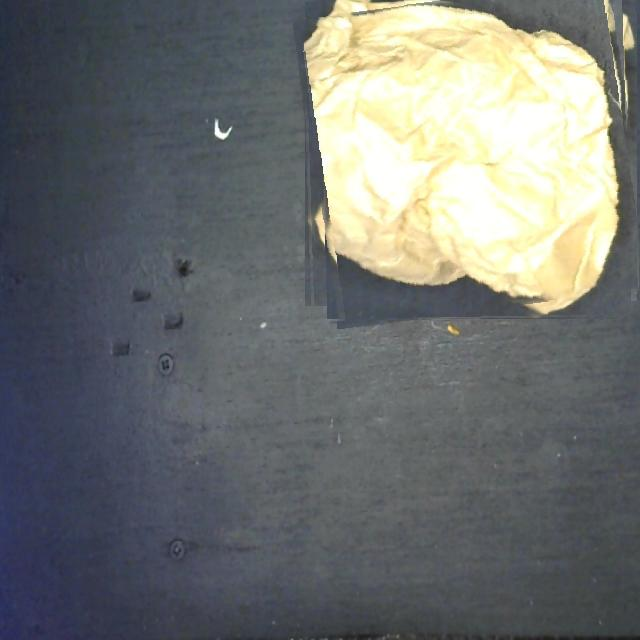biodegradable: (302, 0, 637, 321)
